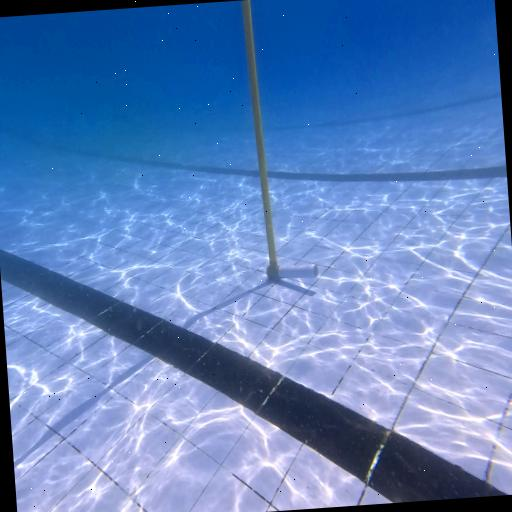pole_gate: (242, 0, 279, 280)
